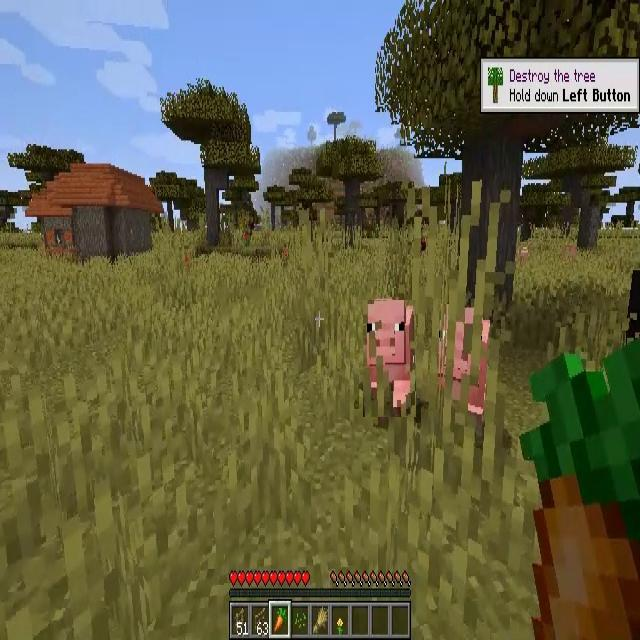pig: (437, 304, 490, 441), (363, 300, 416, 417)
